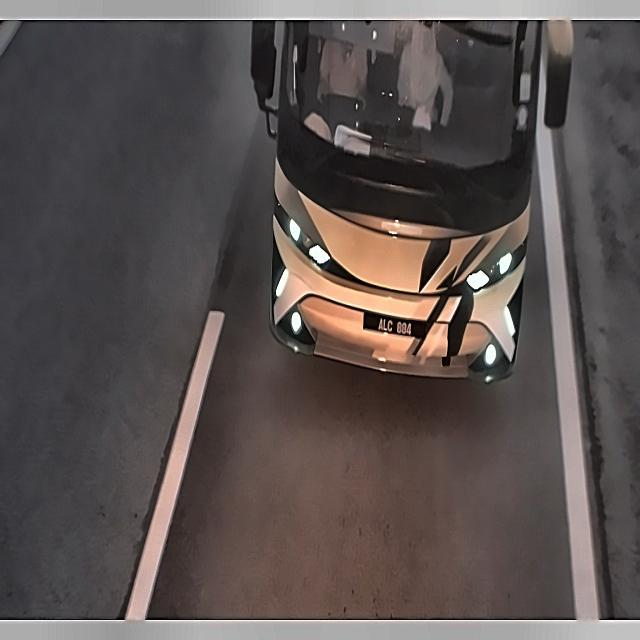car: (363, 311, 424, 343)
